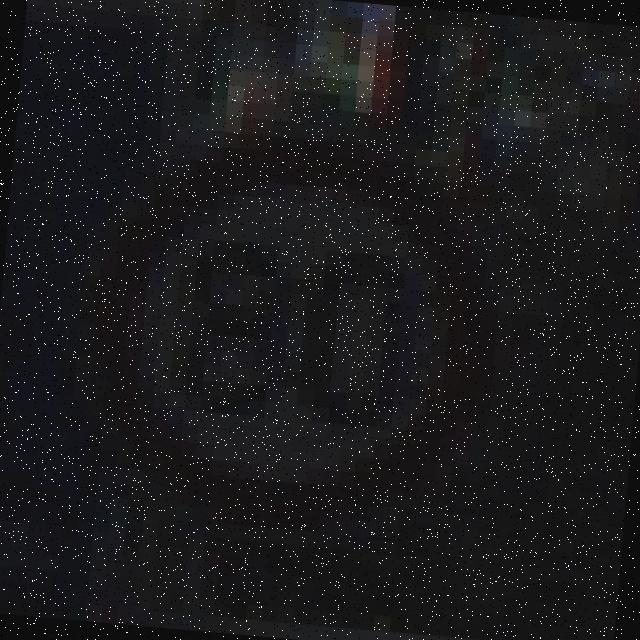Ograniczenie predkosci do 80: (82, 124, 499, 544)
